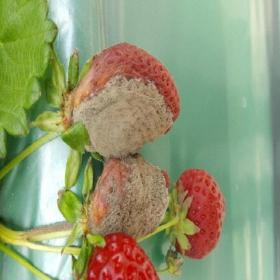Gray Mold: (70, 73, 178, 160), (85, 154, 171, 243)
